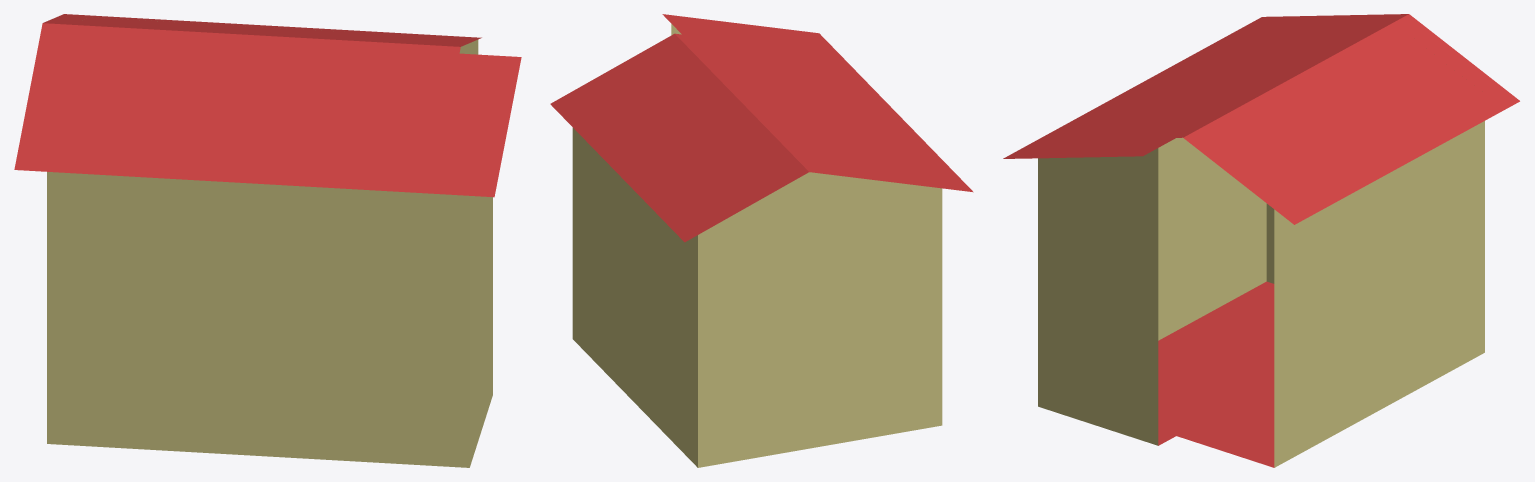
The picture shows the model from 3 angles, left to right: view 1: azimuth 30°, elevation 25°; view 2: azimuth 150°, elevation 25°; view 3: azimuth 270°, elevation 25°; orthographic projection. The views are drawn at different scales.
Size of the model in its own units: 9.69 by 10.19 by 6.52.
